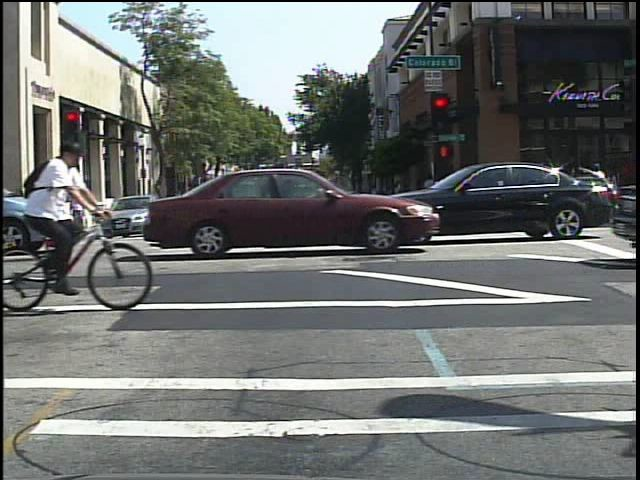person: (25, 126, 102, 305), (590, 158, 616, 223)
